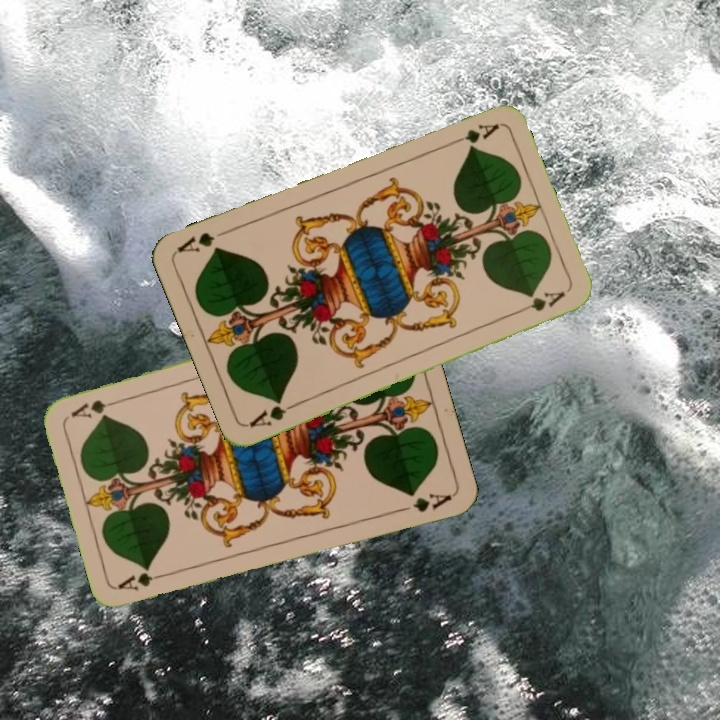GA: (245, 394, 301, 430), (444, 119, 501, 149), (115, 568, 174, 594)
